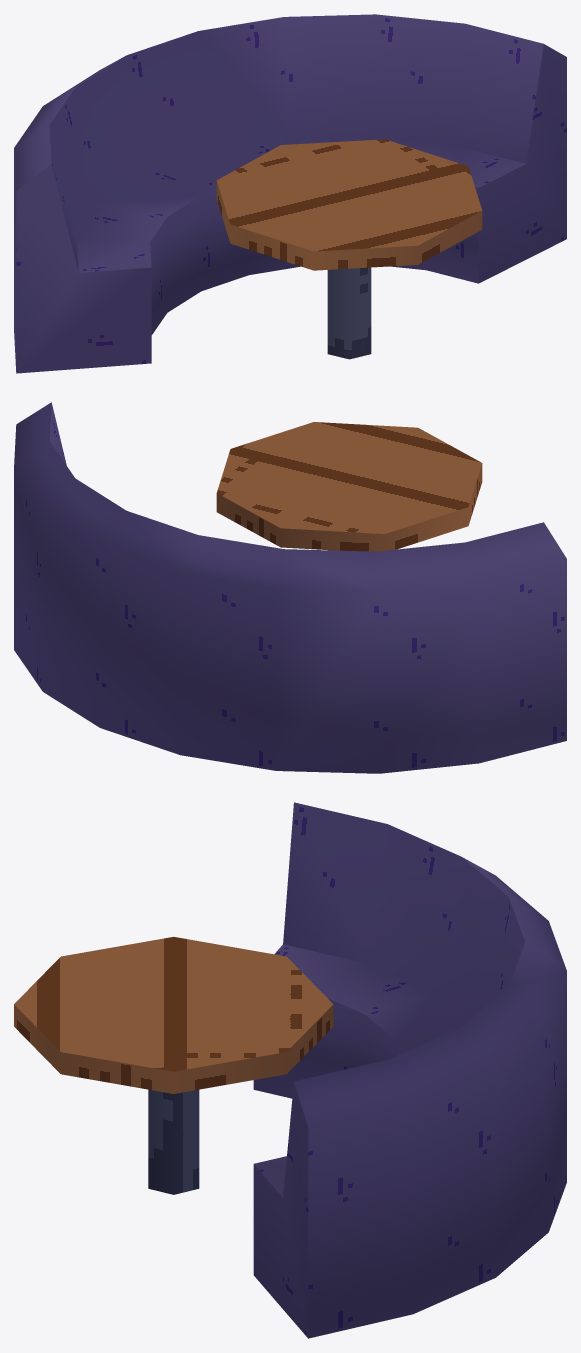
The model's file is cyroom.booth.glb.
3 views of the same model, one above another, from view 1: azimuth 30°, elevation 25°; view 2: azimuth 150°, elevation 25°; view 3: azimuth 270°, elevation 25° (orthographic). The views are drawn at different scales.
Parts seen in each view (by area): view 1: kit_body; view 2: kit_body; view 3: kit_body.
Boxes of the visible parts, x1,y1,x2,y2 form: kit_body: (14,14,566,373); kit_body: (14,402,566,773); kit_body: (14,802,566,1338).
Size of the model in its own units: 3.01 by 1.08 by 2.25.
Materials: 3 (3 with a texture image).
